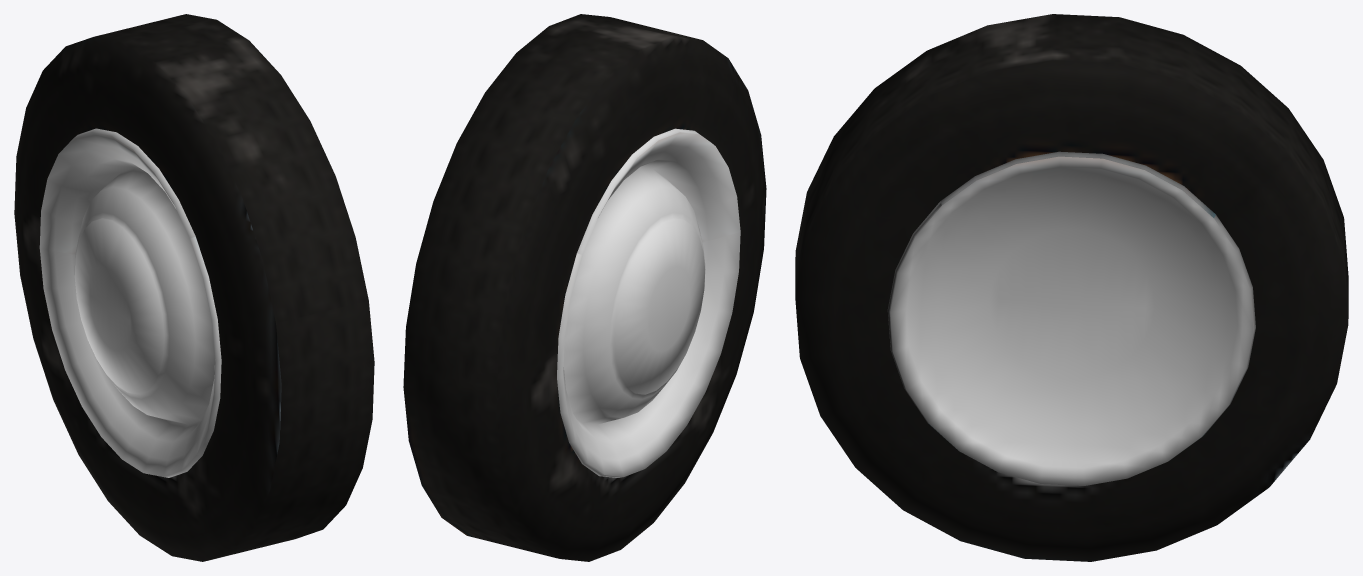
File: right_tire_back.gltf
3 views of the same model, side by side, from view 1: azimuth 30°, elevation 25°; view 2: azimuth 150°, elevation 25°; view 3: azimuth 270°, elevation 25° (orthographic). The views are drawn at different scales.
Visible parts, largest first — view 1: Wheel_F_R_2_0; view 2: Wheel_F_R_2_0; view 3: Wheel_F_R_2_0.
Boxes of the visible parts, <box> form: Wheel_F_R_2_0: <box>14,14,374,561</box>; Wheel_F_R_2_0: <box>403,14,766,561</box>; Wheel_F_R_2_0: <box>795,14,1348,561</box>.
Size of the model in its own units: 0.2454 by 0.7514 by 0.752.
Materials: 1 (1 with a texture image).
